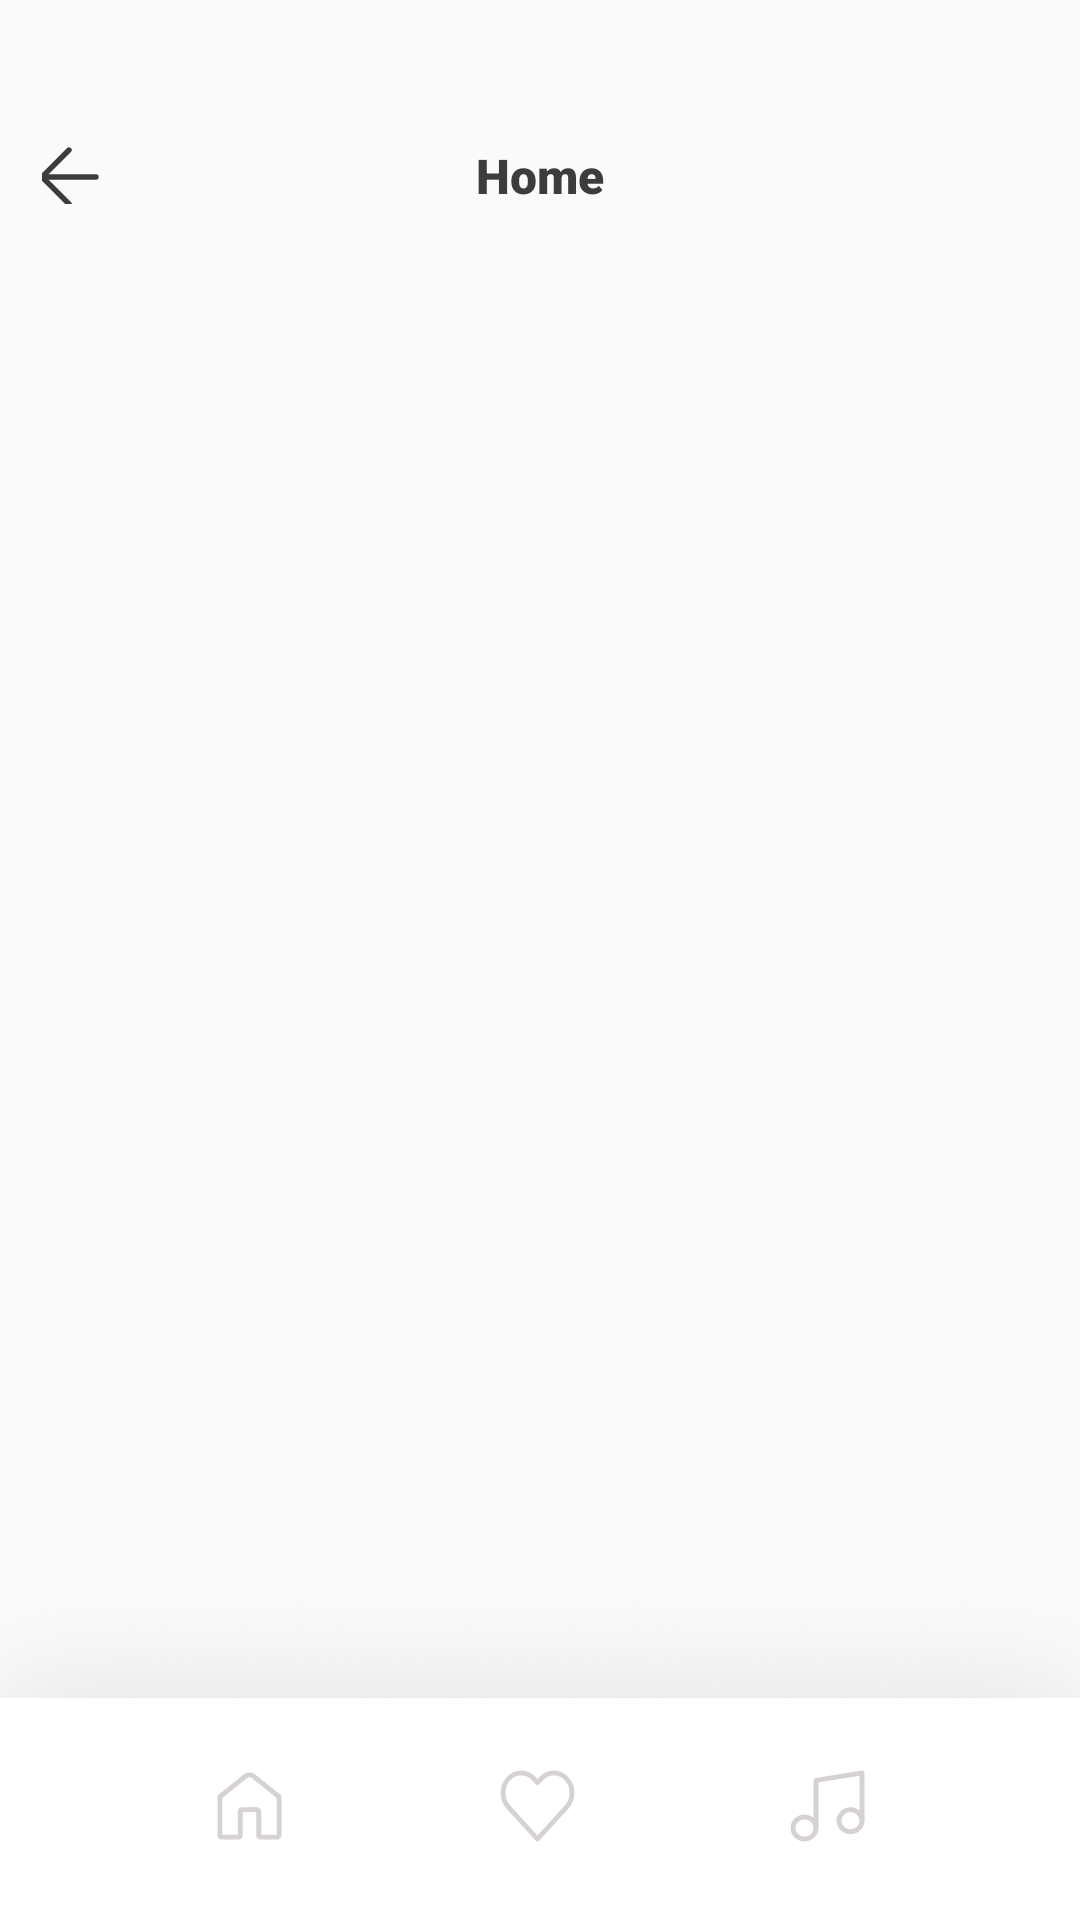

Screen size 1080px x 1920px. Icon name, then its center in pixels as point (x, y):
back: point (70, 175)
